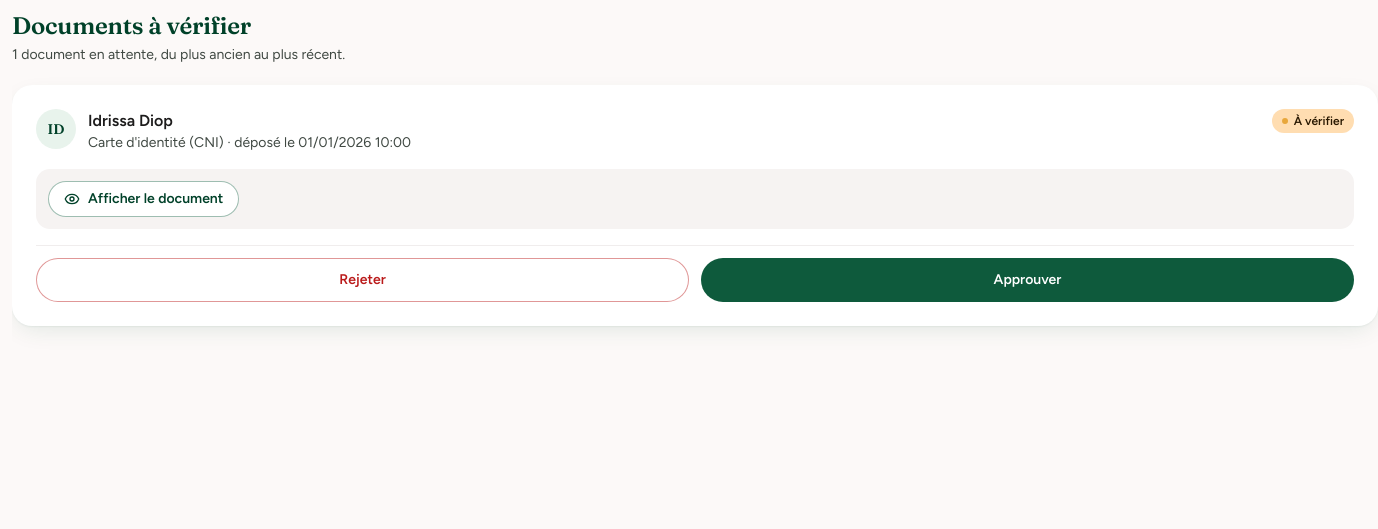
Test case: AdminVerificationQueueScreen › rejects the document with the motif and removes it from the queue
Click the button "Rejeter" at point(362, 280), box [36,258,689,302]
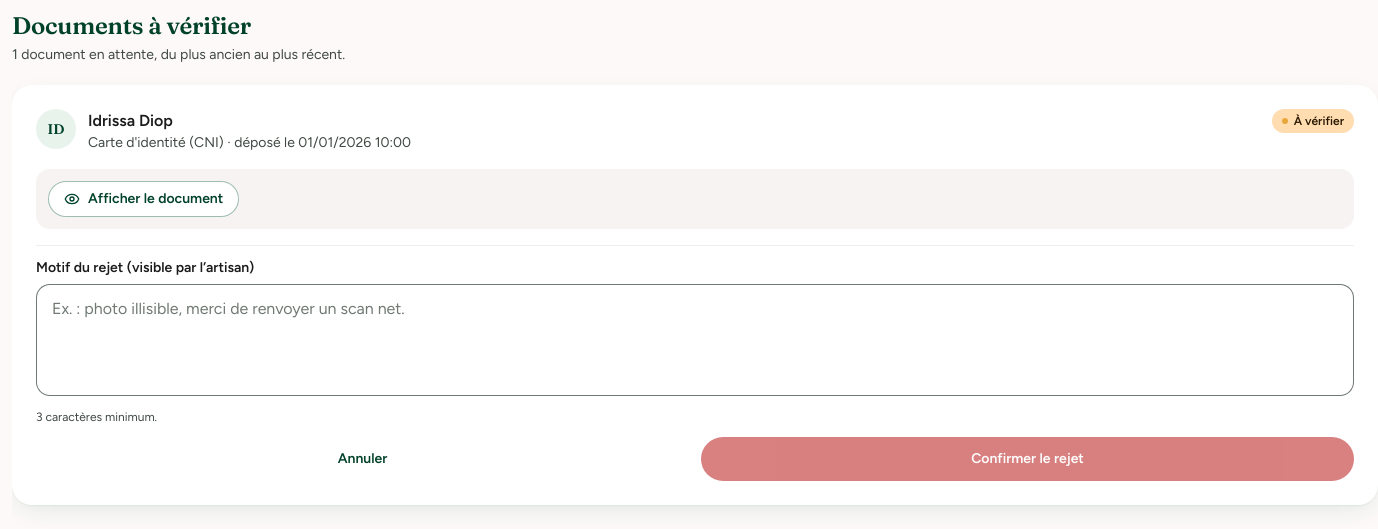
Type "Photo illisible." into the text box labelled "Motif du rejet (visible par l’artisan)" at point(695, 340), box [36,284,1354,396]
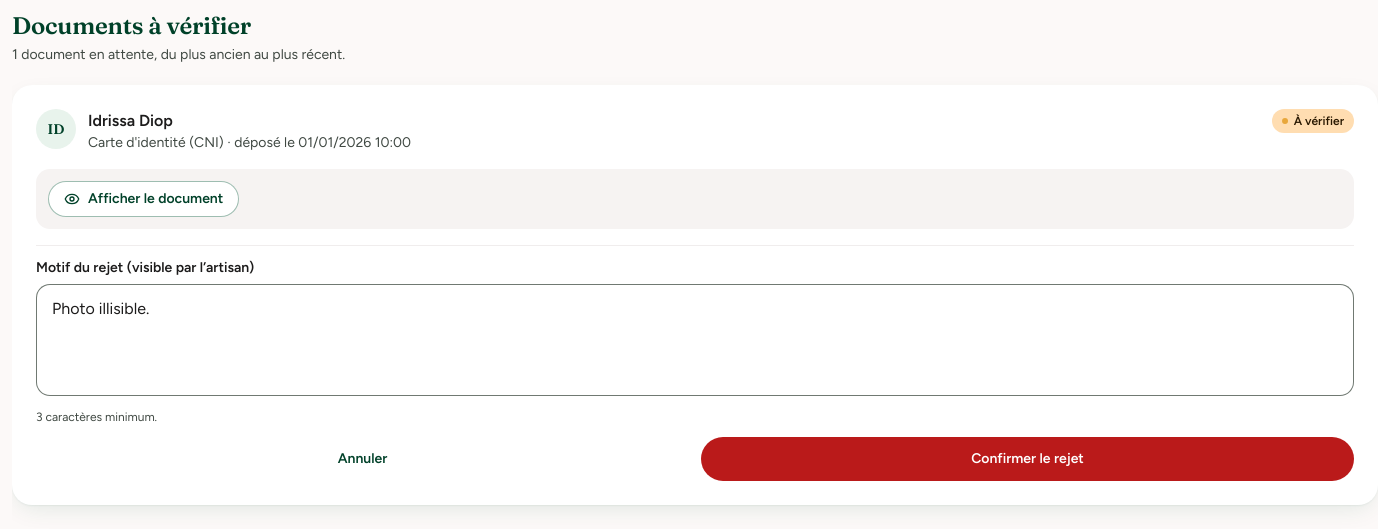
Click the button "Confirmer le rejet" at point(1028, 459), box [701,437,1354,481]
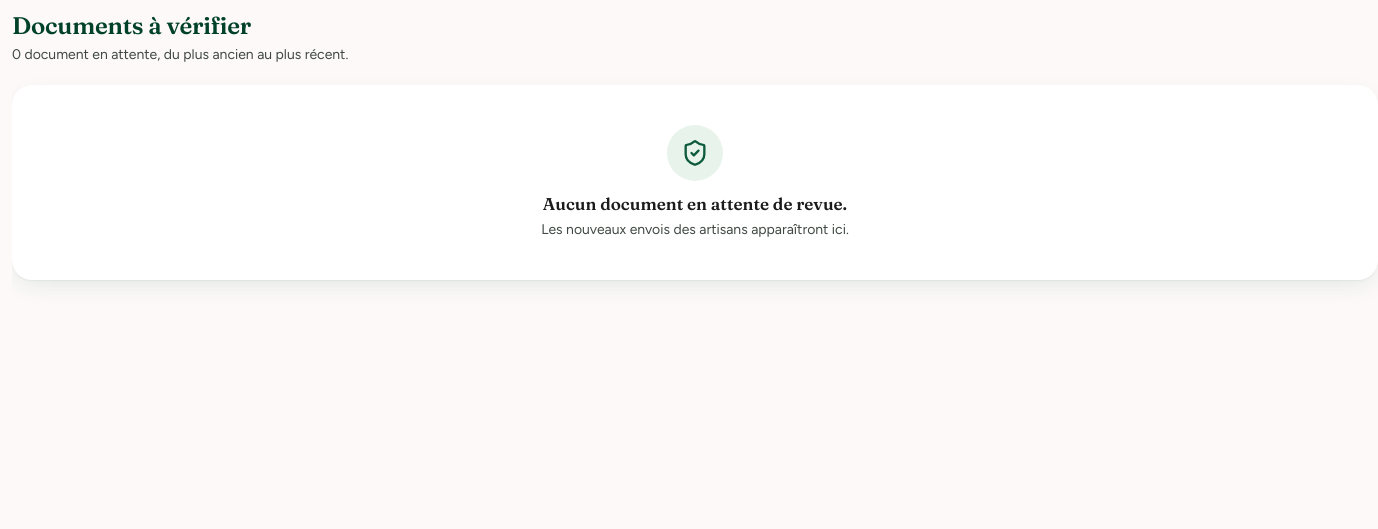
expect the text "Idrissa Diop" is gone: met
